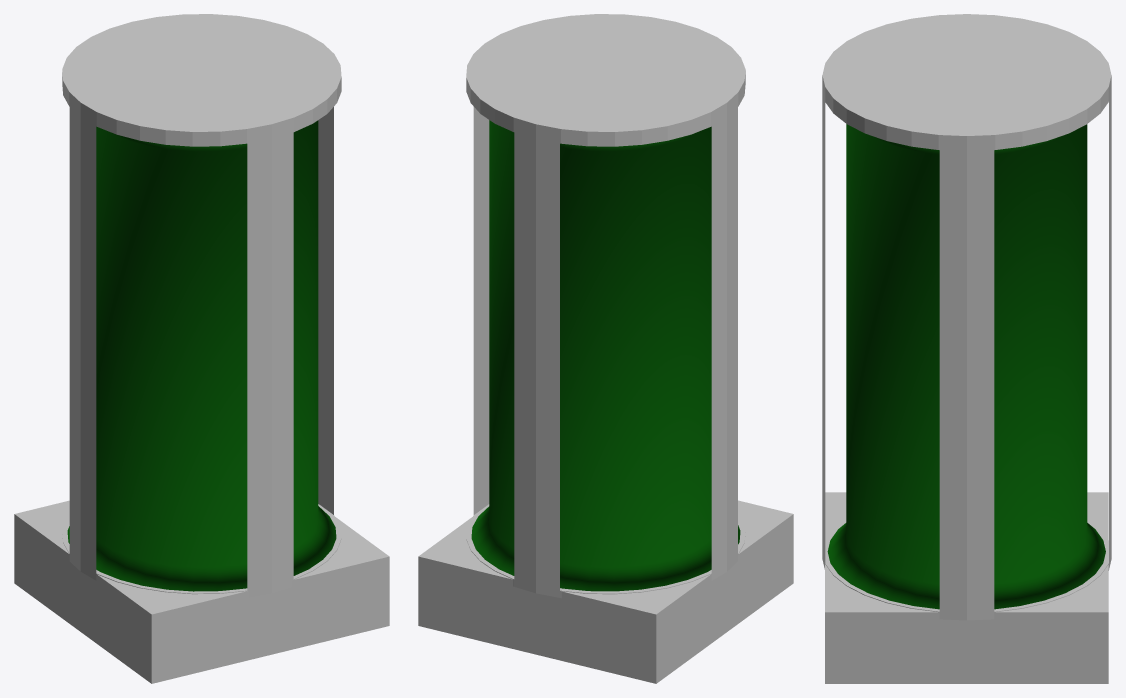
The model's file is Kolba.fbx.
The picture shows the model from 3 angles, left to right: view 1: azimuth 30°, elevation 25°; view 2: azimuth 150°, elevation 25°; view 3: azimuth 270°, elevation 25°; orthographic projection. The views are drawn at different scales.
Parts seen in each view (by area): view 1: Kolbas, Kolba; view 2: Kolbas, Kolba; view 3: Kolbas, Kolba.
Part boxes in pixels (bbox=[...]): Kolbas: bbox=[14, 120, 389, 683]; Kolba: bbox=[62, 14, 341, 597]; Kolbas: bbox=[418, 120, 793, 683]; Kolba: bbox=[466, 14, 745, 597]; Kolbas: bbox=[825, 124, 1108, 683]; Kolba: bbox=[822, 14, 1111, 620].
Bounding box in the file's own units: 204 × 427 × 204.
